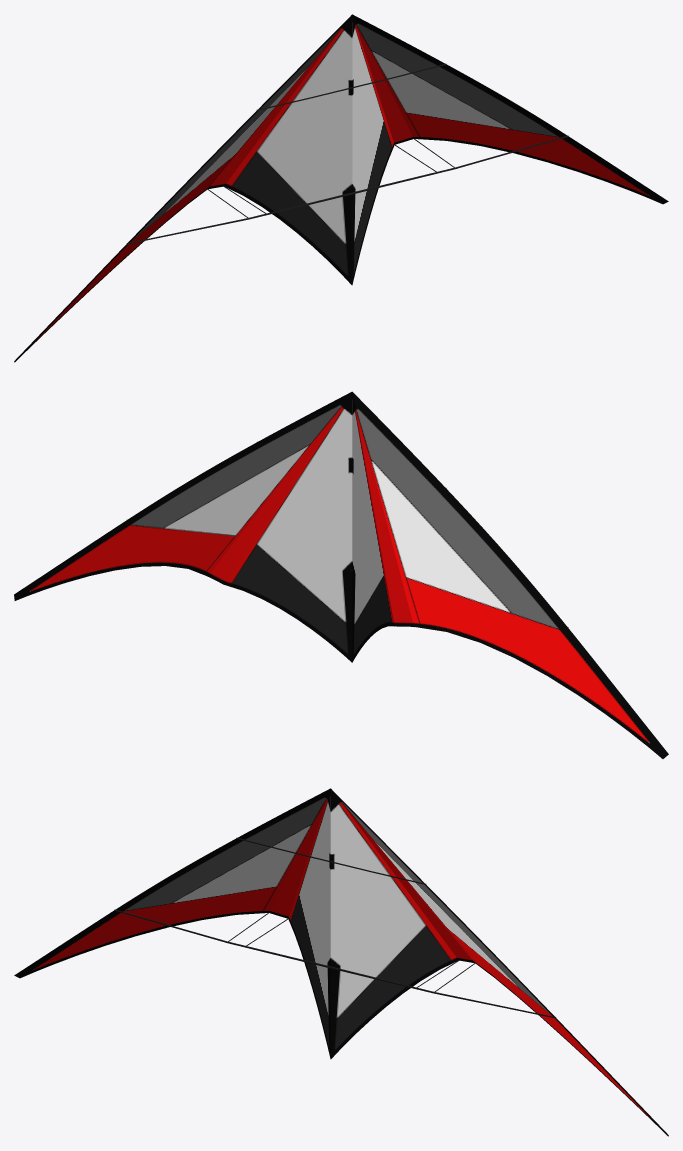
Rendered from SixthSenseClone.obj.
3 renders of one model, top to bottom at view 1: azimuth 30°, elevation 25°; view 2: azimuth 150°, elevation 25°; view 3: azimuth 330°, elevation 25°, orthographic.
Bounding box in the file's own units: 2380 × 969 × 272.
3 materials, 2 textured.
